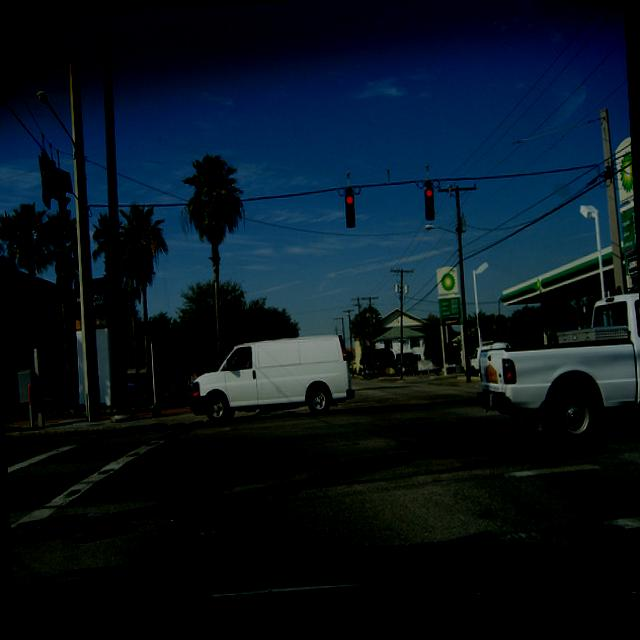Vehicle: (12, 527, 640, 640), (475, 294, 640, 451), (186, 332, 356, 422), (115, 378, 146, 397), (360, 364, 382, 378), (396, 362, 414, 374), (432, 361, 442, 372)
